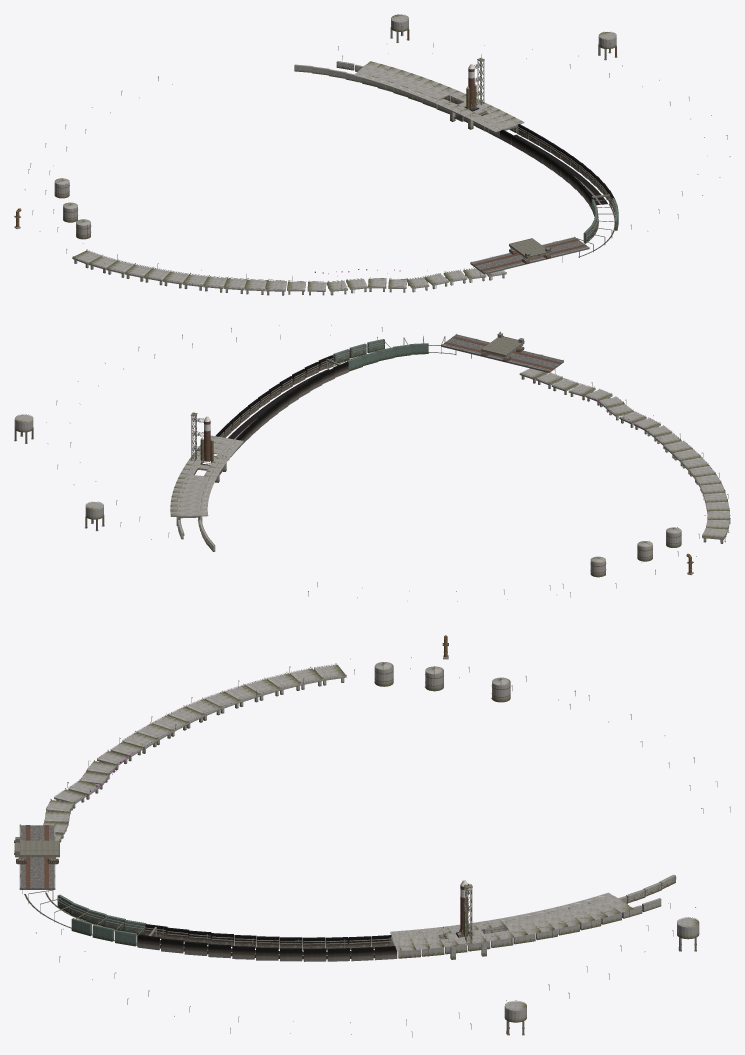
The model's file is painted.glb.
3 views of the same model, one above another, from view 1: azimuth 30°, elevation 25°; view 2: azimuth 150°, elevation 25°; view 3: azimuth 270°, elevation 25° (orthographic). The views are drawn at different scales.
Visible parts, largest first — view 1: AP_STATIC_AP_MAT_concrete, AP_STATIC_AP_MAT_metal, crawler-transporter_metal.001; view 2: AP_STATIC_AP_MAT_concrete, AP_STATIC_AP_MAT_metal, crawler-transporter_metal.001; view 3: AP_STATIC_AP_MAT_concrete, AP_STATIC_AP_MAT_metal, crawler-transporter_metal.001.
Part boxes in pixels (x1,y1,x2,y2): AP_STATIC_AP_MAT_concrete: [14, 14, 617, 295]; AP_STATIC_AP_MAT_metal: [14, 14, 616, 294]; crawler-transporter_metal.001: [509, 238, 551, 260]; AP_STATIC_AP_MAT_concrete: [14, 334, 729, 577]; AP_STATIC_AP_MAT_metal: [14, 334, 730, 573]; crawler-transporter_metal.001: [481, 331, 524, 358]; AP_STATIC_AP_MAT_concrete: [19, 655, 699, 1035]; AP_STATIC_AP_MAT_metal: [20, 635, 698, 1034]; crawler-transporter_metal.001: [14, 837, 59, 860].
Size of the model in its own units: 971 by 86.31 by 766.
Materials: 5 (5 with a texture image).
